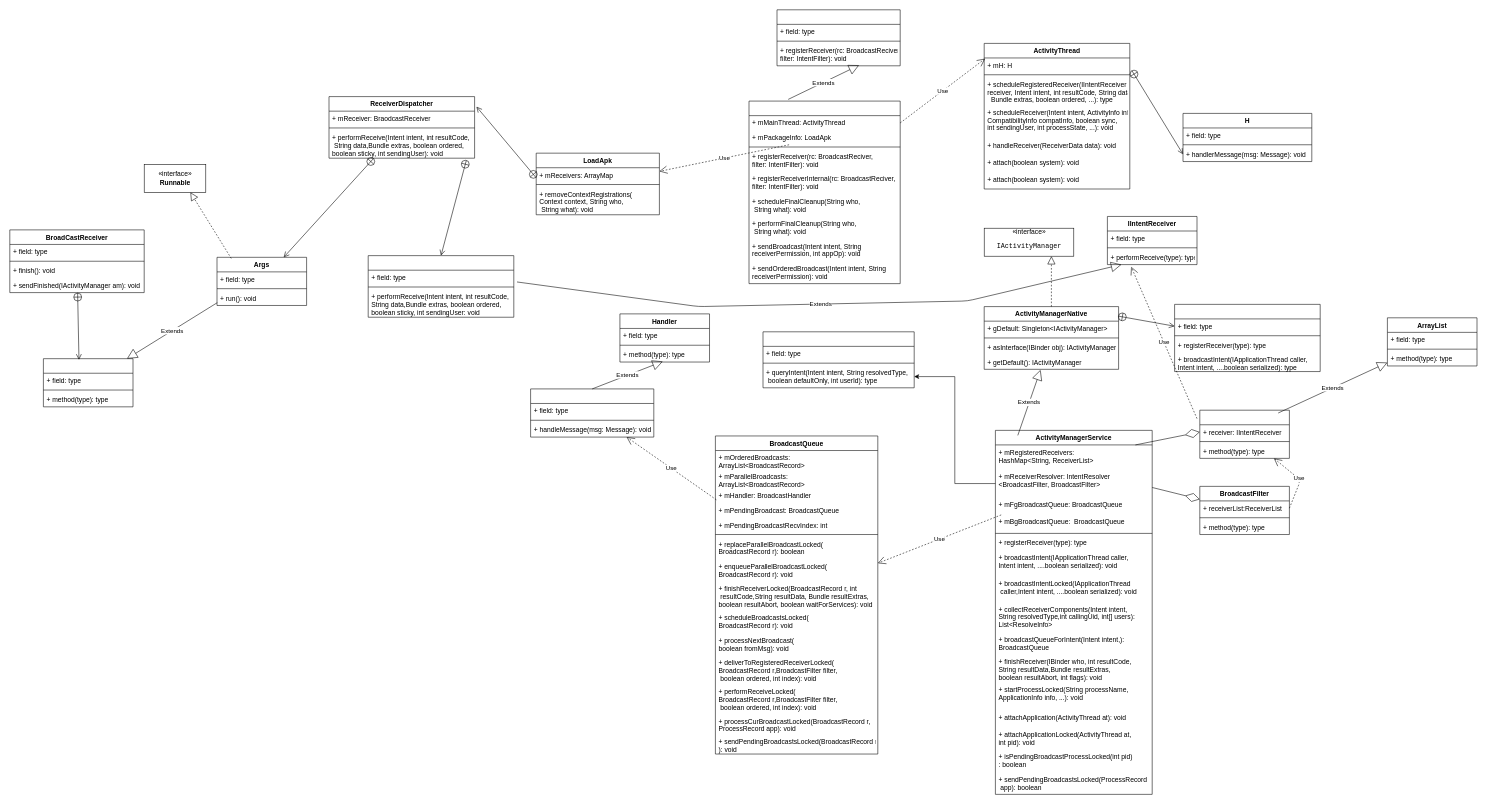
This 1487x806 diagram has some shape labels left out. The box of each missing label's shape, as (x1, y1, x2, y2) in pixels:
ActivityManagerProxy: (1174, 304, 1320, 372)
BroadcastHandler: (530, 388, 654, 437)
Context: (776, 9, 900, 66)
ContextImpl: (748, 101, 900, 284)
InnerReceiver: (368, 255, 514, 317)
IntentResolver: (762, 331, 914, 388)
PendingResult: (43, 358, 133, 407)
ReceiverList: (1199, 410, 1289, 458)
